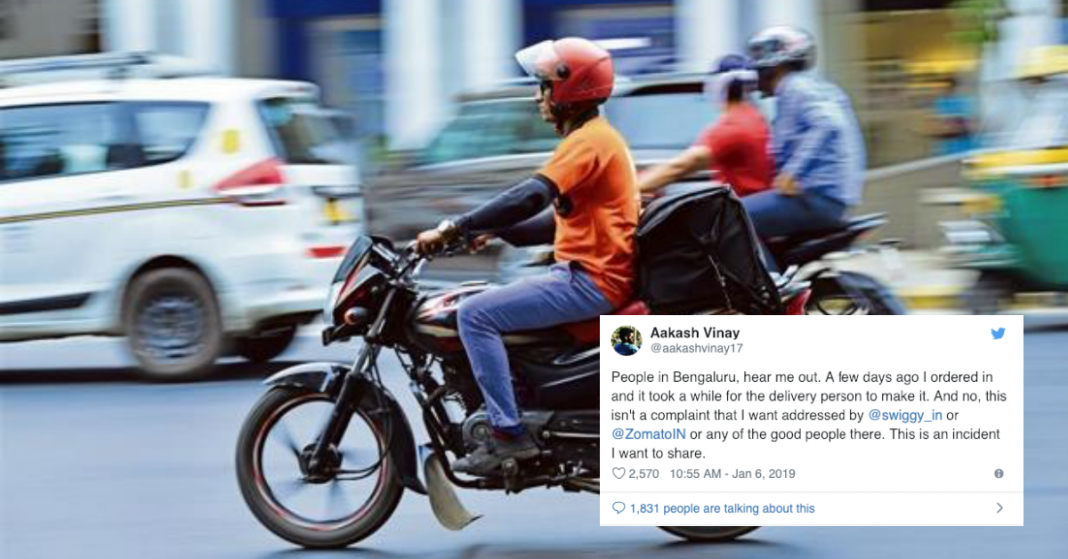helmet: (368, 26, 669, 313)
